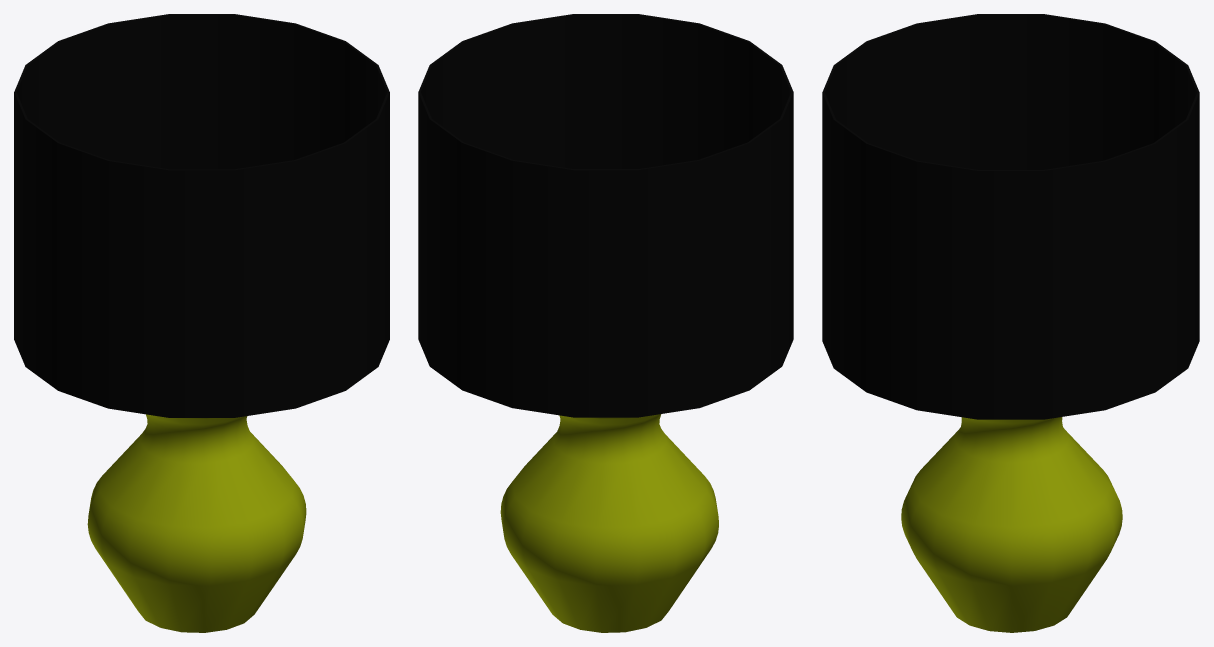
The model's file is Lamp.FBX.
3 views of the same model, side by side, from view 1: azimuth 30°, elevation 25°; view 2: azimuth 150°, elevation 25°; view 3: azimuth 270°, elevation 25° (orthographic).
Visible parts, largest first — view 1: LampDown; view 2: LampDown; view 3: LampDown.
Boxes of the visible parts, x1,y1,x2,y2 form: LampDown: (14,14,389,632); LampDown: (418,14,793,632); LampDown: (822,14,1199,632).
Bounding box in the file's own units: 11.1 × 17.06 × 11.27.
